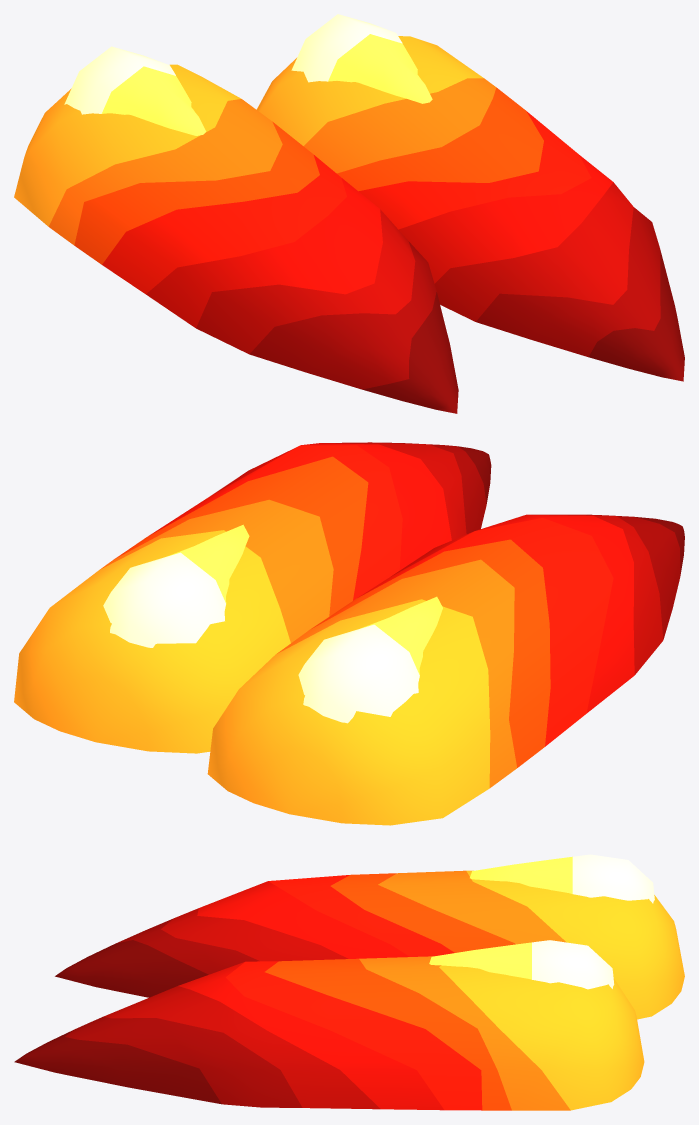
Rendered from shot_pulse_h2l_45.glb.
3 renders of one model, top to bottom at view 1: azimuth 30°, elevation 25°; view 2: azimuth 150°, elevation 25°; view 3: azimuth 270°, elevation 25°, orthographic. The views are drawn at different scales.
Visible parts, largest first — view 1: shot_pulse_h2l_45_bolt0, shot_pulse_h2l_45_bolt1, shot_pulse_h2l_45_core0, shot_pulse_h2l_45_core1; view 2: shot_pulse_h2l_45_bolt0, shot_pulse_h2l_45_bolt1, shot_pulse_h2l_45_core0, shot_pulse_h2l_45_core1; view 3: shot_pulse_h2l_45_bolt1, shot_pulse_h2l_45_bolt0, shot_pulse_h2l_45_core1, shot_pulse_h2l_45_core0.
Part boxes in pixels (left/top/right/bottom): shot_pulse_h2l_45_bolt0: left=14, top=64, right=458, bottom=413; shot_pulse_h2l_45_bolt1: left=256, top=36, right=684, bottom=381; shot_pulse_h2l_45_core0: left=64, top=46, right=206, bottom=135; shot_pulse_h2l_45_core1: left=291, top=14, right=432, bottom=103; shot_pulse_h2l_45_bolt0: left=207, top=514, right=684, bottom=825; shot_pulse_h2l_45_bolt1: left=14, top=442, right=491, bottom=753; shot_pulse_h2l_45_core0: left=298, top=596, right=442, bottom=723; shot_pulse_h2l_45_core1: left=103, top=524, right=249, bottom=647; shot_pulse_h2l_45_bolt1: left=14, top=956, right=644, bottom=1110; shot_pulse_h2l_45_bolt0: left=55, top=870, right=684, bottom=1019; shot_pulse_h2l_45_core1: left=429, top=940, right=614, bottom=989; shot_pulse_h2l_45_core0: left=470, top=854, right=654, bottom=903.
Bounding box in the file's own units: 7.54 × 2.24 × 11.71.
